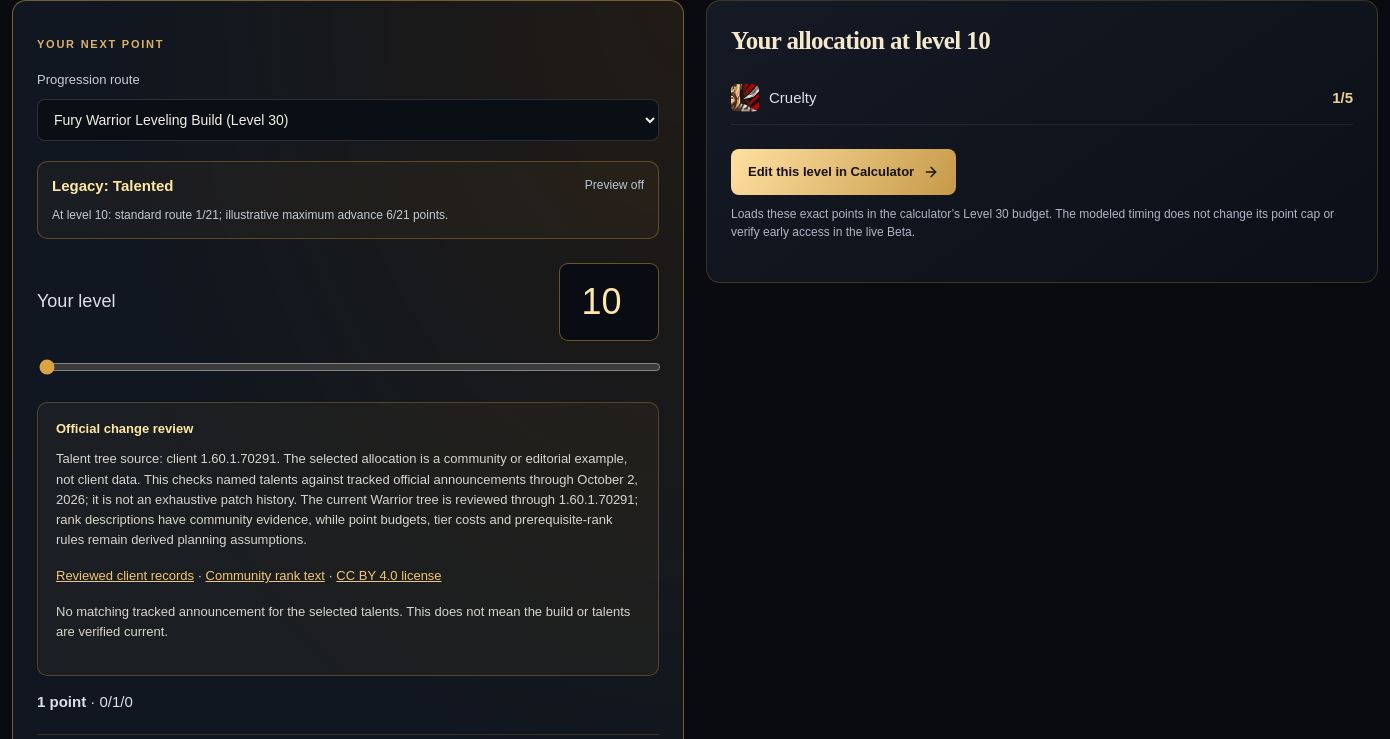
Test: shows a clearly modeled Talented timing comparison without adding unverified points
The width and height of the screenshot is (1390, 739).
Expected: the element with test id "progression-current" shows "1 point", top-left (37, 692), bottom-right (133, 710)
Step 1. Click the switch labelled "Legacy: Talented Preview off" → (113, 185), box top-left (52, 174), bottom-right (644, 198)
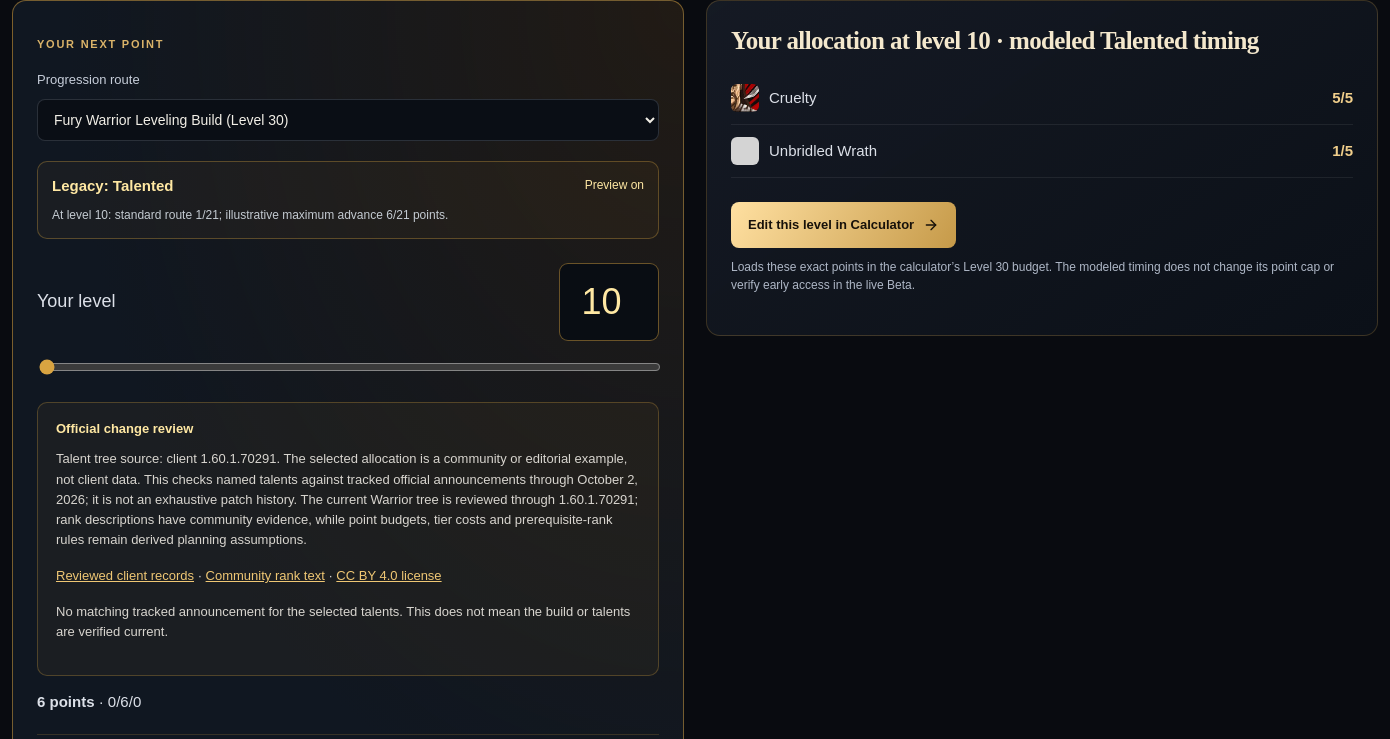
Expected: the element with test id "progression-current" shows "6 points", top-left (37, 692), bottom-right (141, 710)
Step 2. Replace the text in the number field labelled "Your level" with "20" → (609, 302), box top-left (559, 263), bottom-right (659, 340)
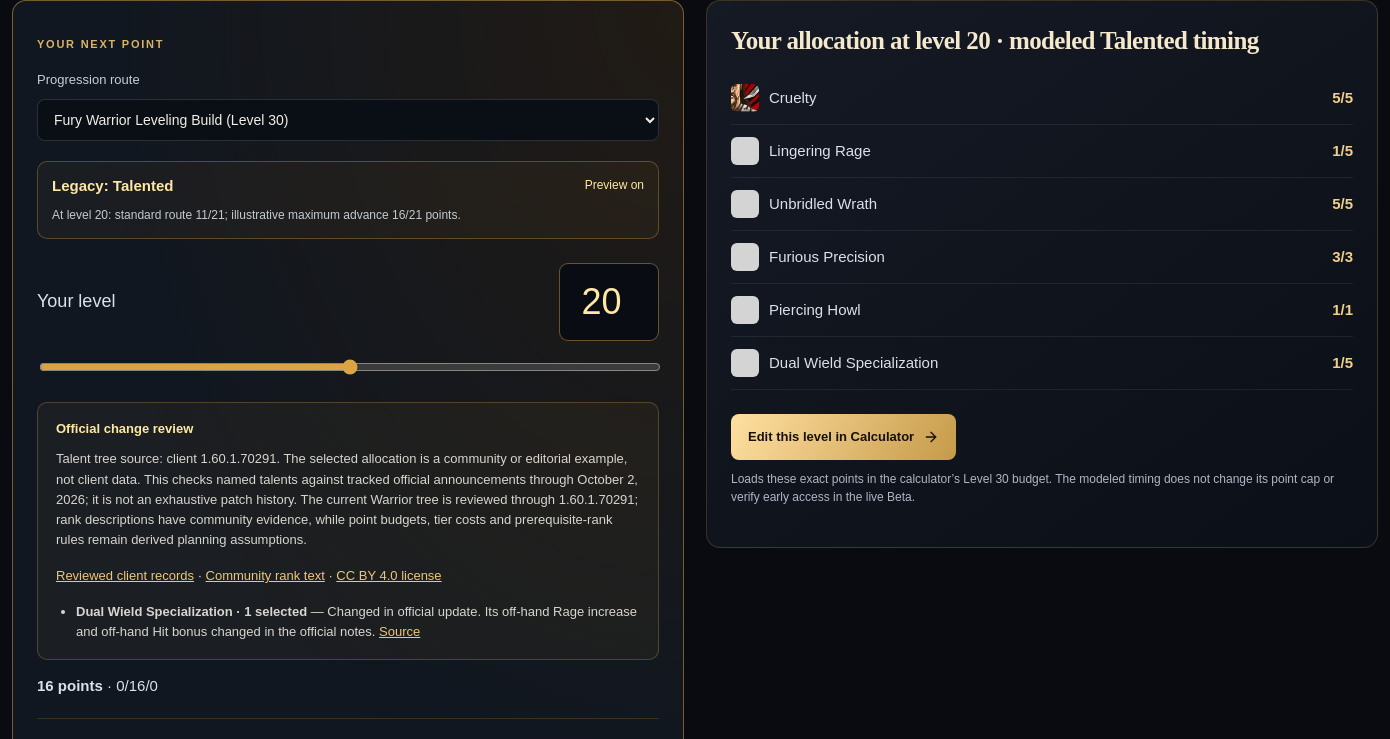
Expected: the element with test id "progression-current" shows "16 points", top-left (37, 676), bottom-right (158, 694)
Step 3. Replace the text in the number field labelled "Your level" with "30" → (609, 302), box top-left (559, 263), bottom-right (659, 340)
(page scrolled)
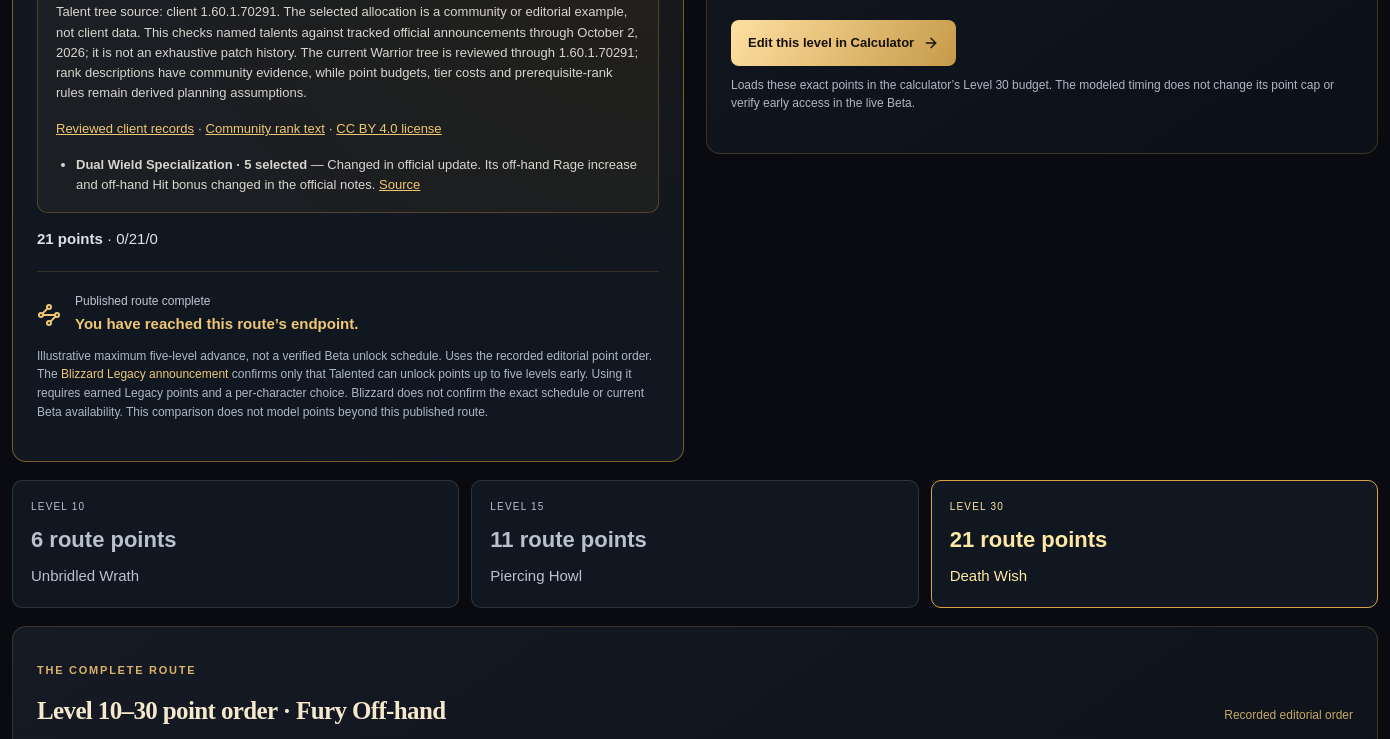
Expected: the text "does not model points beyond this published route" is shown, top-left (37, 367), bottom-right (644, 419)
Expected: the element with test id "progression-current" shows "21 points", top-left (37, 230), bottom-right (158, 246)
Expected: the element with test id "progression-next" shows "Published route complete", top-left (75, 294), bottom-right (210, 308)
